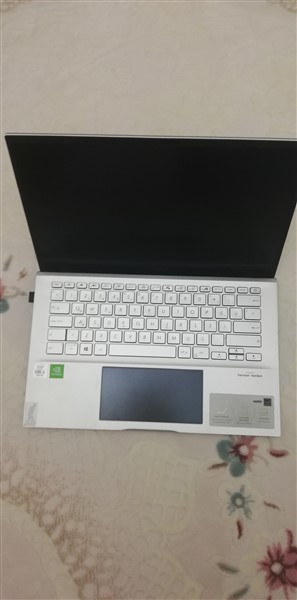laptop: (2, 127, 297, 439)
